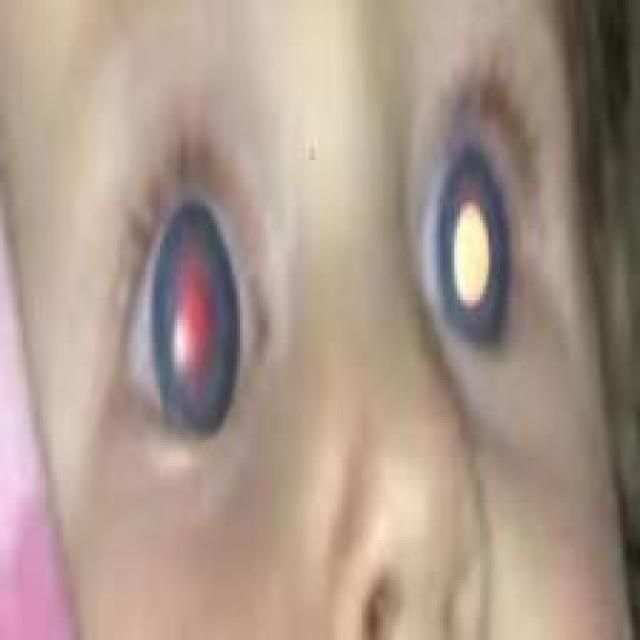reflexo-alterado: (397, 96, 539, 359)
reflexo-normal: (76, 162, 279, 438)
